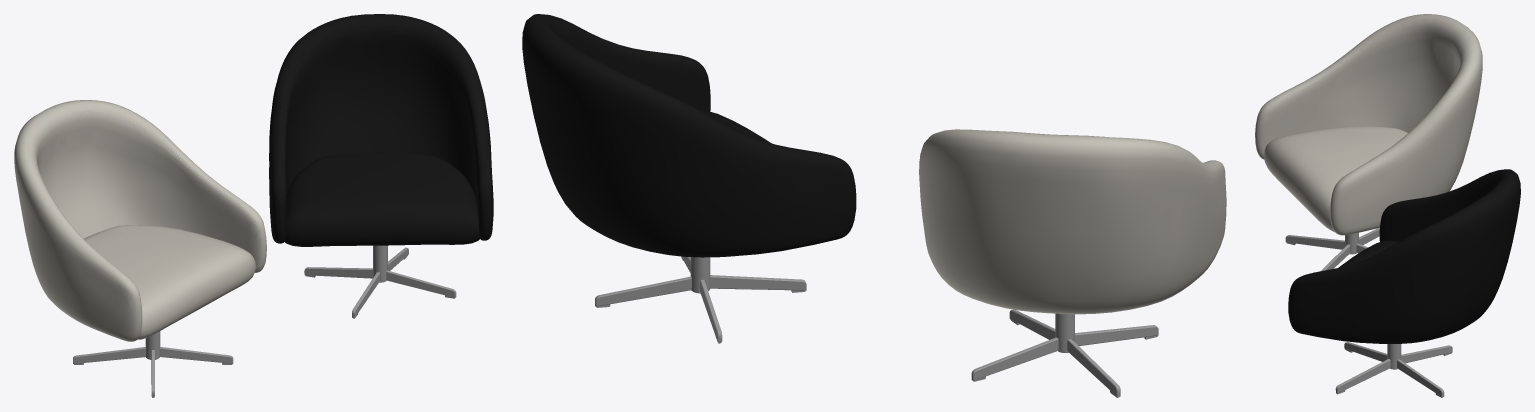
Rendered from chair-7.glb.
3 renders of one model, left to right at view 1: azimuth 30°, elevation 25°; view 2: azimuth 150°, elevation 25°; view 3: azimuth 270°, elevation 25°, orthographic. The views are drawn at different scales.
Parts seen in each view (by area): view 1: leatherChair001_leather_dark_0, leatherChair_leather_white_0, legs001_metal_Leg_0, legs_metal_Leg_0; view 2: leatherChair001_leather_dark_0, leatherChair_leather_white_0, legs_metal_Leg_0, legs001_metal_Leg_0; view 3: leatherChair_leather_white_0, leatherChair001_leather_dark_0, legs001_metal_Leg_0, legs_metal_Leg_0.
Boxes of the visible parts, box(x1,y1,x2,y2) form: leatherChair001_leather_dark_0: box(269, 14, 493, 246); leatherChair_leather_white_0: box(14, 100, 266, 341); legs001_metal_Leg_0: box(304, 245, 456, 318); legs_metal_Leg_0: box(73, 331, 233, 397); leatherChair001_leather_dark_0: box(522, 14, 856, 257); leatherChair_leather_white_0: box(919, 129, 1226, 314); legs_metal_Leg_0: box(971, 309, 1158, 397); legs001_metal_Leg_0: box(595, 256, 806, 343); leatherChair_leather_white_0: box(1255, 14, 1482, 235); leatherChair001_leather_dark_0: box(1288, 169, 1520, 343); legs001_metal_Leg_0: box(1335, 342, 1452, 397); legs_metal_Leg_0: box(1285, 228, 1379, 270).
Bounding box in the file's own units: 10.57 × 4.82 × 5.57.
3 materials, 3 textured.
